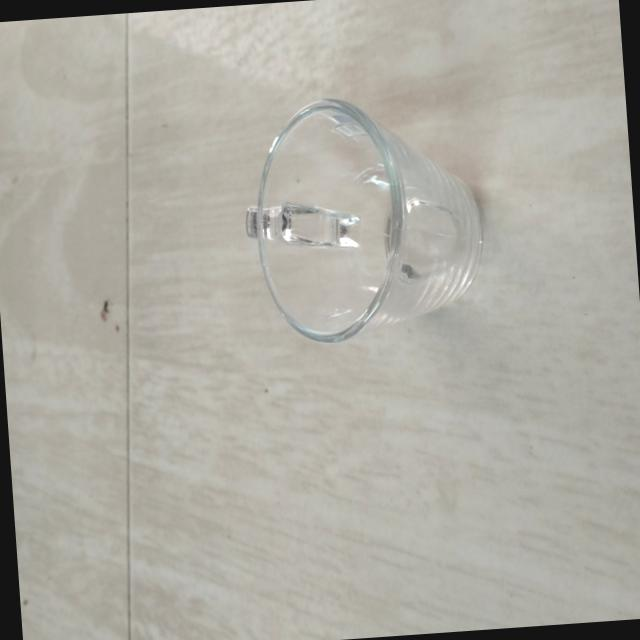glass-VX4N: (235, 72, 490, 352)
